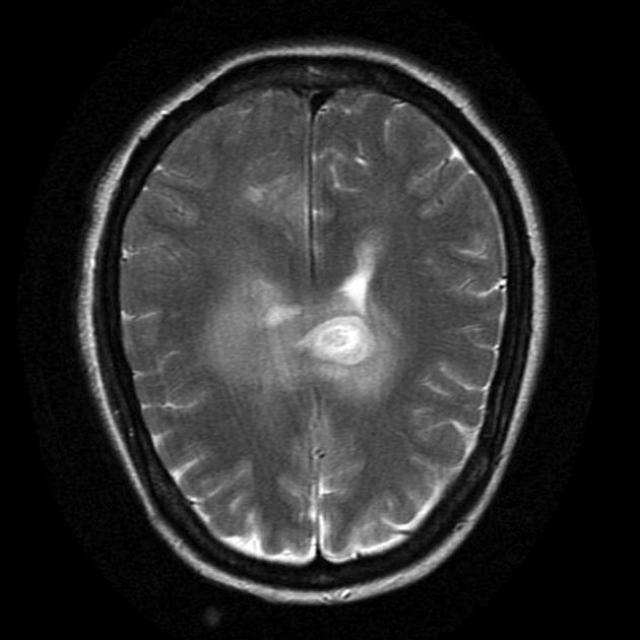Tumor: (309, 229, 401, 386)
